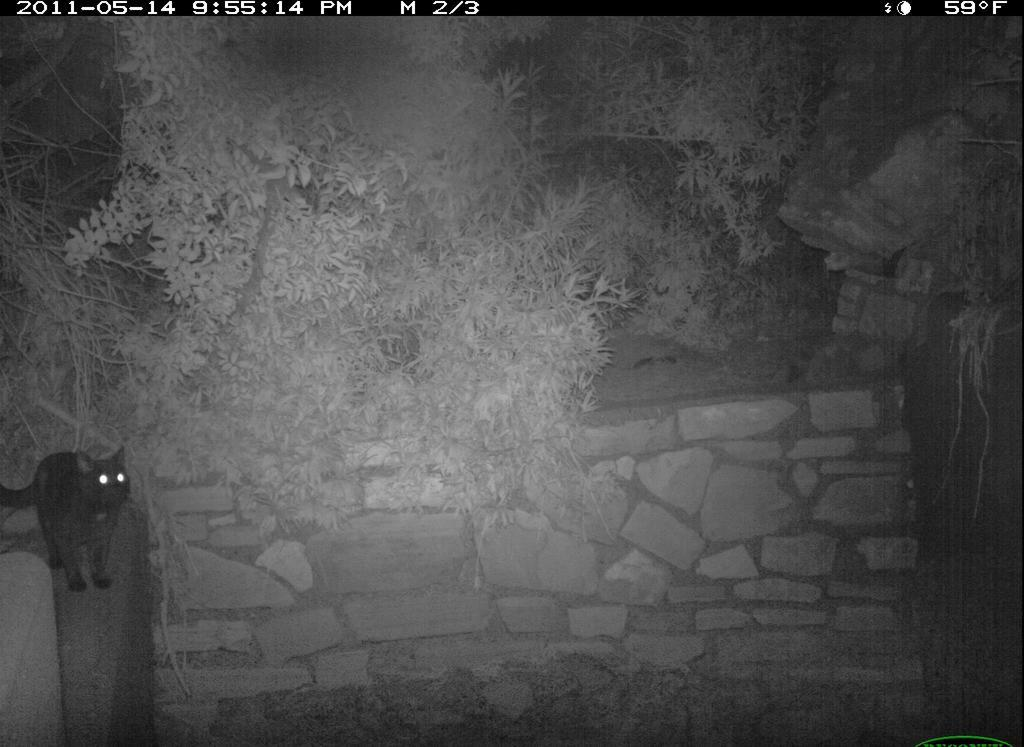cat: (2, 434, 157, 602)
